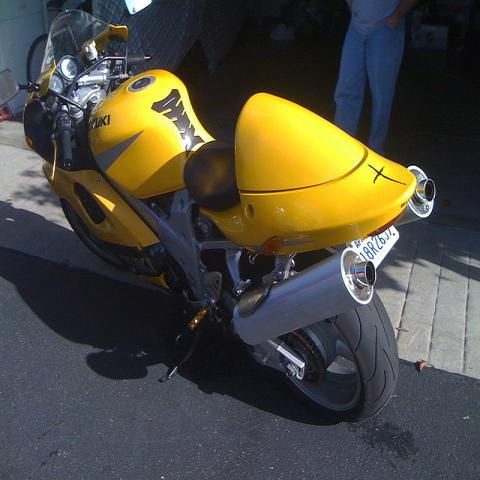motorcycle: (1, 11, 437, 424)
